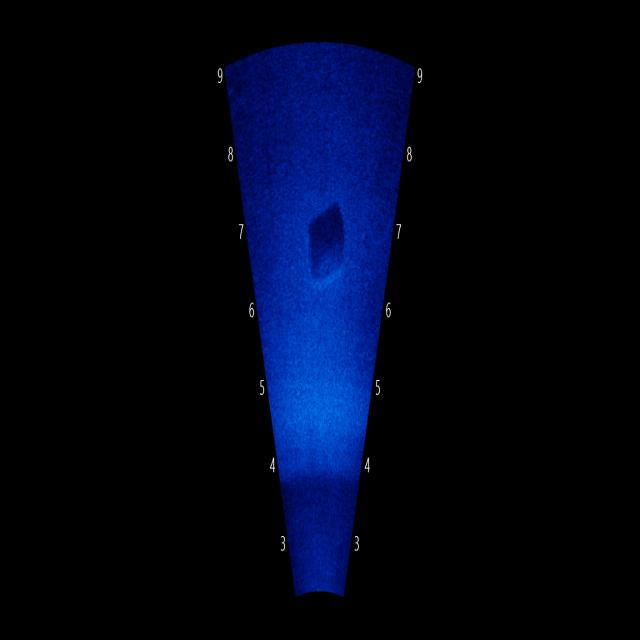square: (300, 185, 351, 308)
